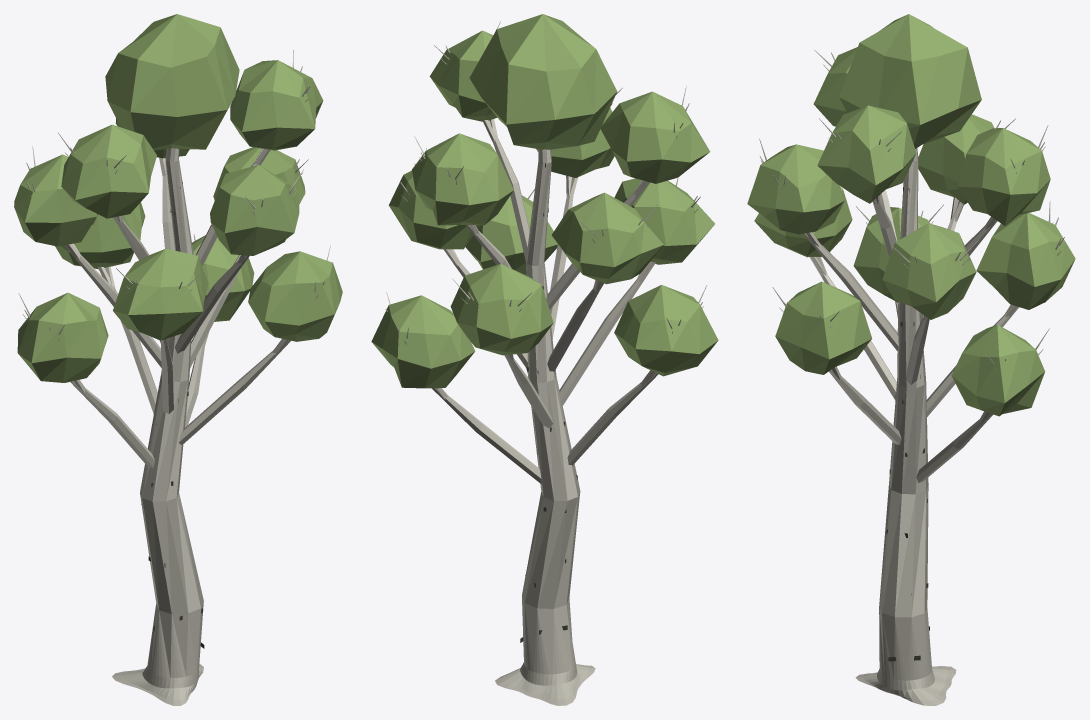
The model's file is birch_spring.glb.
The picture shows the model from 3 angles, left to right: view 1: azimuth 30°, elevation 25°; view 2: azimuth 150°, elevation 25°; view 3: azimuth 270°, elevation 25°; orthographic projection.
Parts seen in each view (by area): view 1: leaves, branches; view 2: leaves, branches; view 3: leaves, branches.
Part boxes in pixels (box(x1,y1,x2,y2)): leaves: box(14, 14, 342, 382); branches: box(18, 50, 332, 705); leaves: box(371, 14, 718, 388); branches: box(385, 21, 706, 705); leaves: box(747, 14, 1075, 416); branches: box(759, 50, 1064, 705).
Bounding box in the file's own units: 2.7 × 5.7 × 2.51.
